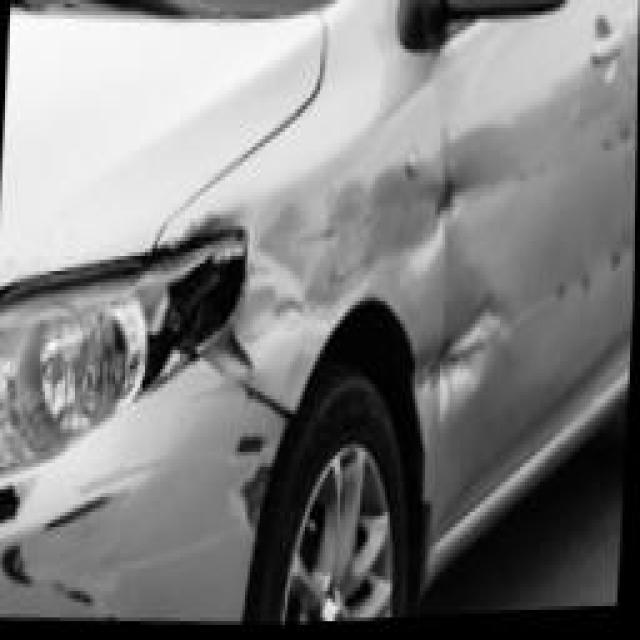Bumper: (0, 373, 282, 638)
Door: (435, 30, 627, 486)
Fender: (192, 139, 469, 422)
Light: (0, 282, 196, 457)
